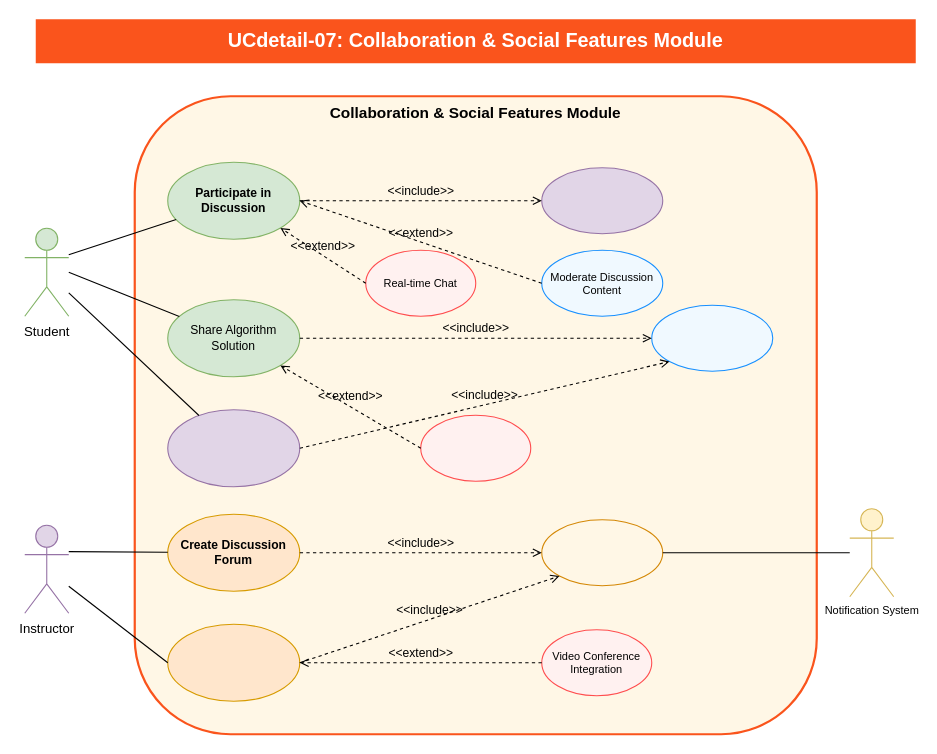
This 937x754 diagram has some shape labels left out. The shapes that lost their labels are listed below. From the top down, each one's centre as x and y in pixels, then its label:
At (x=602, y=200): "Track User Engagement".
At (x=712, y=337): "Rate Solution Quality".
At (x=233, y=448): "Conduct Peer Review".
At (x=475, y=447): "Collaborative Code Editing".
At (x=602, y=552): "Send Social Notifications".
At (x=233, y=662): "Create Study Group".
